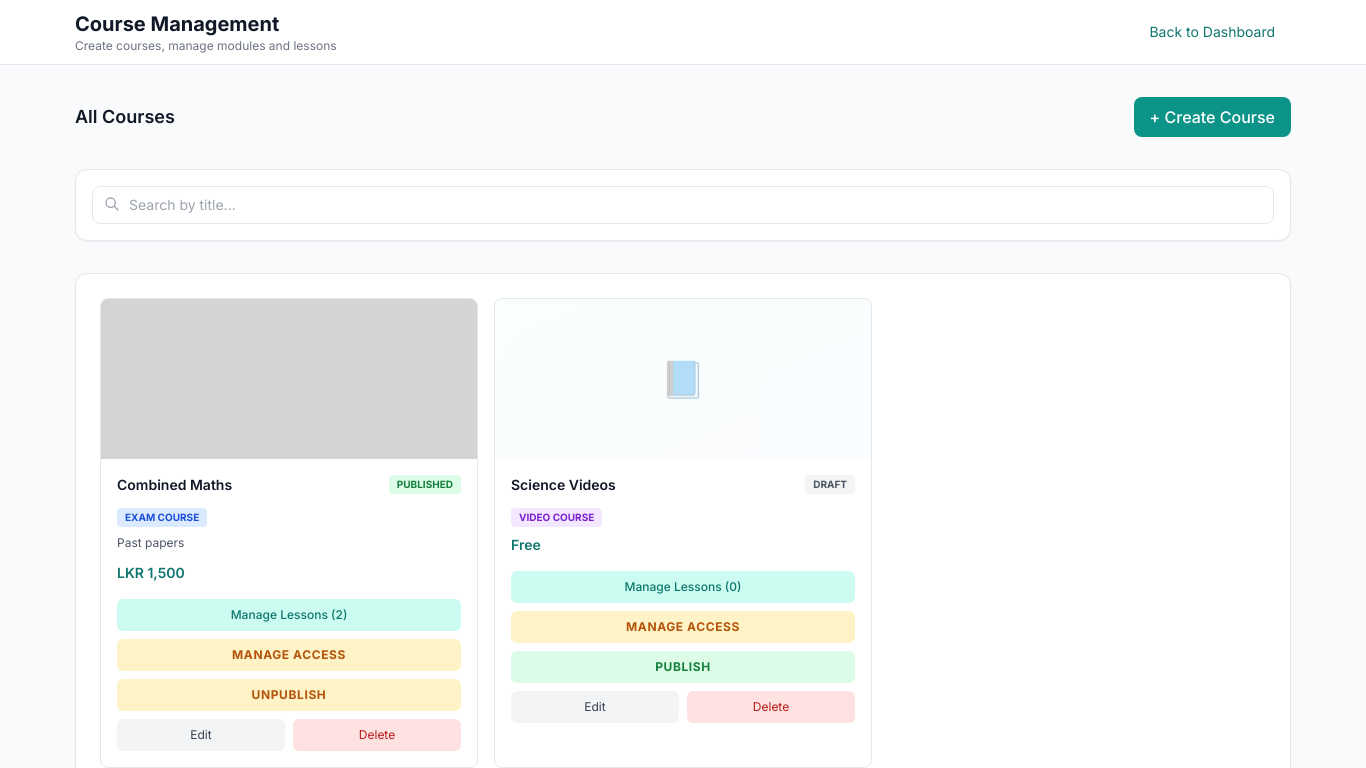
Test: Course management › create › says when no streams exist
Expected: the heading "Combined Maths" is shown, [117,475,232,495]
Click the button "+ Create Course" at (1212, 117), box [1134,97,1291,137]
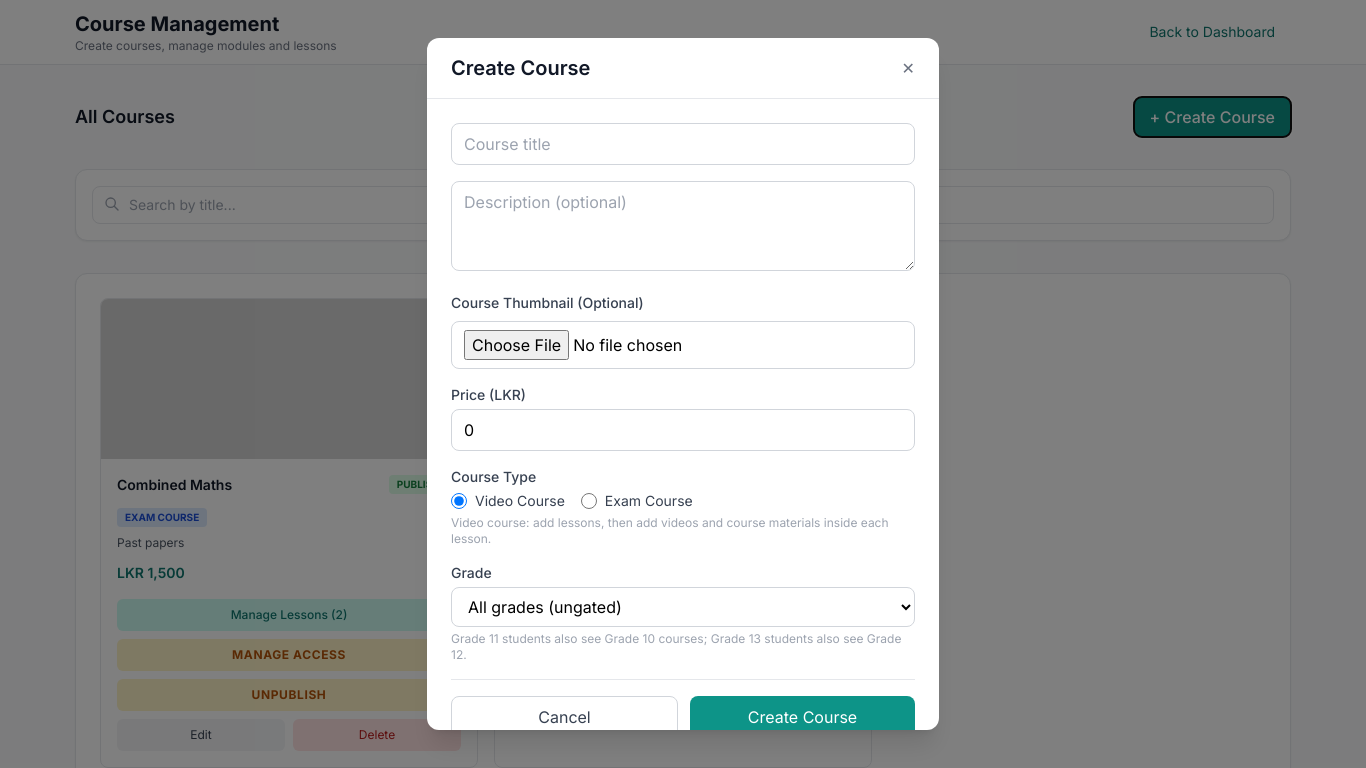
Select "Grade 12 (A/L)" in the dropdown at (683, 607), box [451,587,915,627]
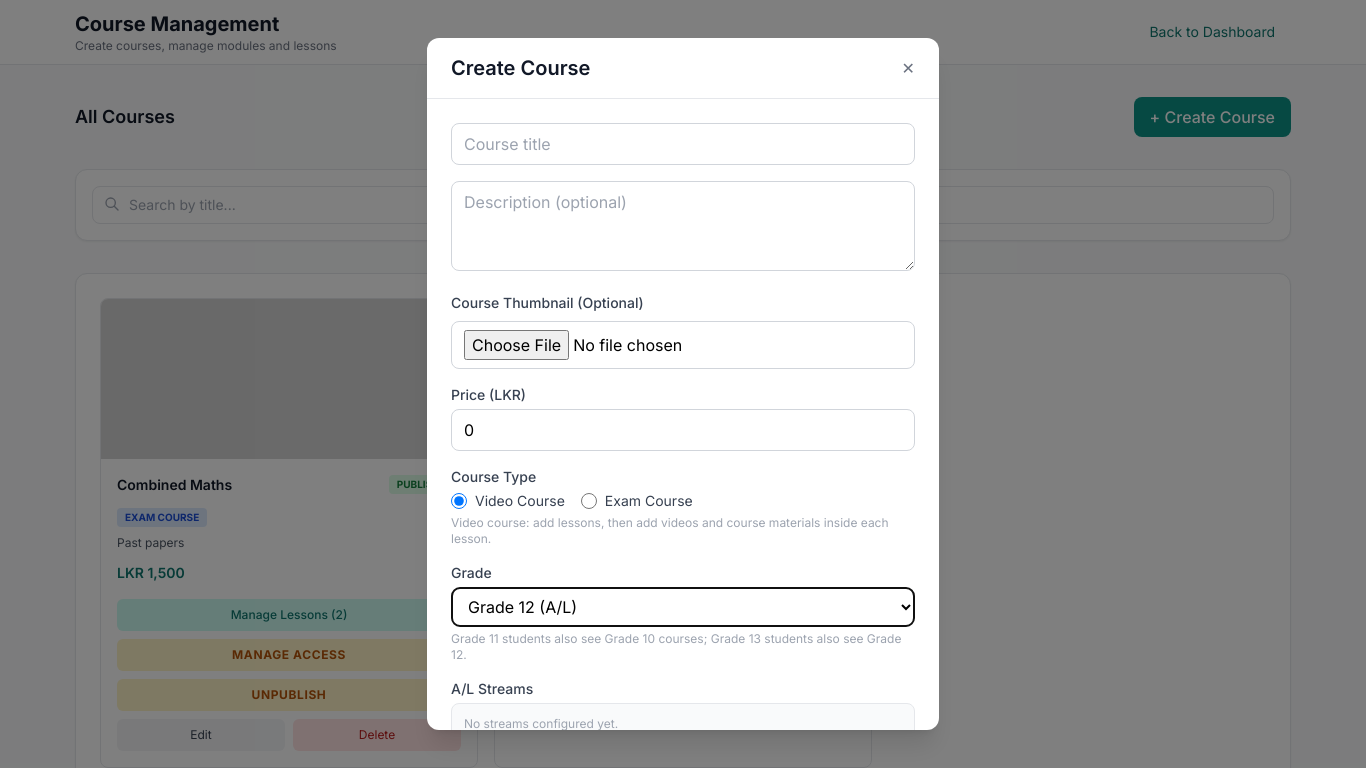
Expected: the text "No streams configured yet." is shown, [464,716,618,730]
